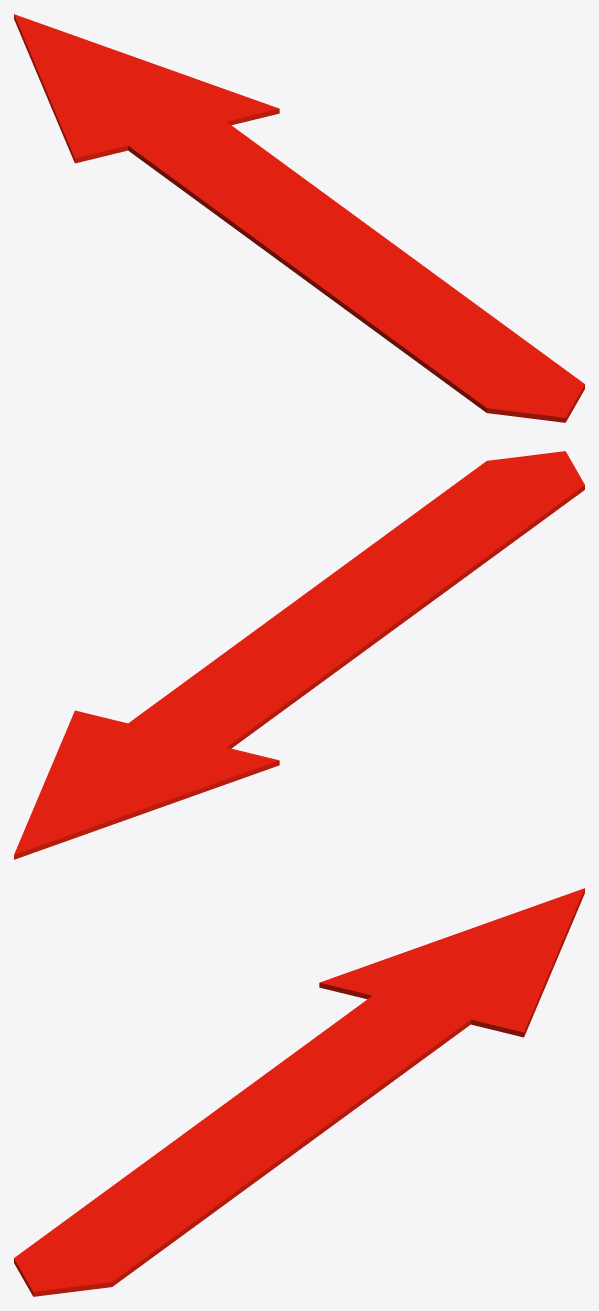
The model's file is pfeil.fbx.
The picture shows the model from 3 angles, top to bottom: view 1: azimuth 30°, elevation 25°; view 2: azimuth 150°, elevation 25°; view 3: azimuth 330°, elevation 25°; orthographic projection.
Visible parts, largest first — view 1: Cube; view 2: Cube; view 3: Cube.
Boxes of the visible parts, left/top/right/bottom form: Cube: left=14, top=14, right=584, bottom=422; Cube: left=14, top=451, right=584, bottom=859; Cube: left=14, top=888, right=584, bottom=1296.
Bounding box in the file's own units: 99.6 × 2.31 × 465.
